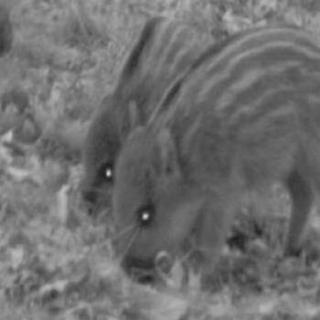Pig: (108, 29, 320, 291), (76, 32, 134, 219)
